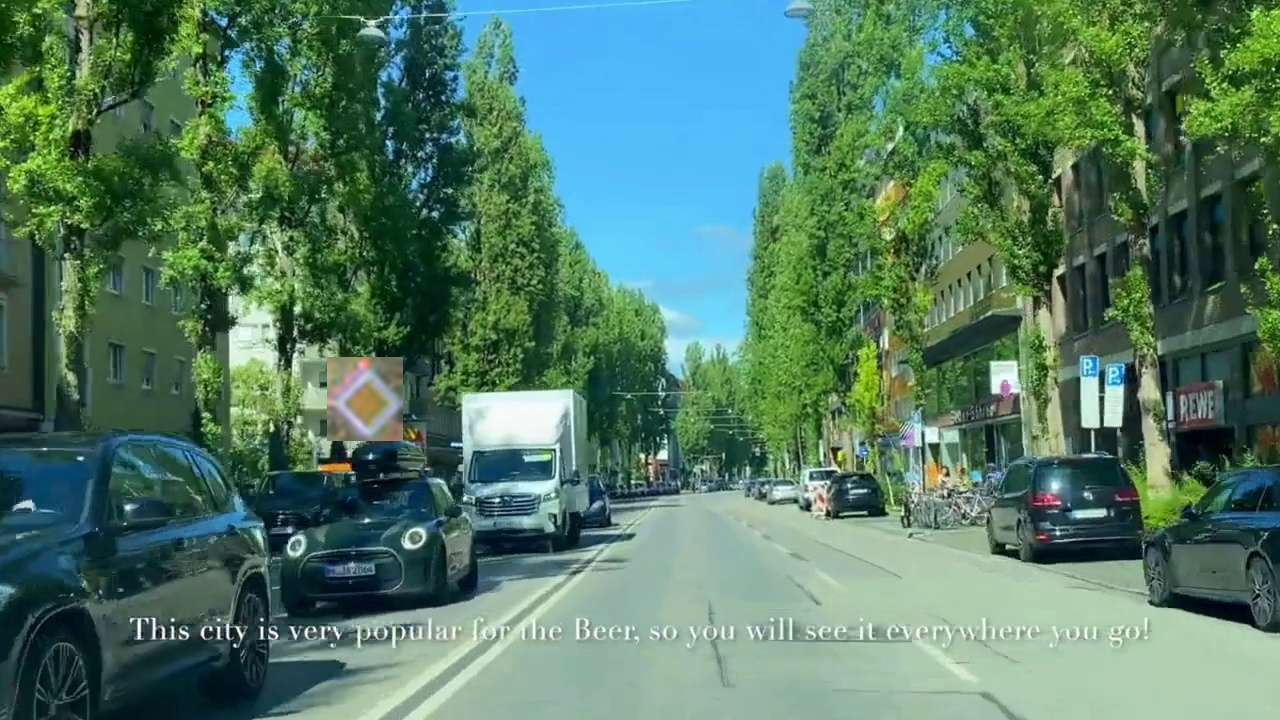Priority road: (327, 357, 403, 441)
